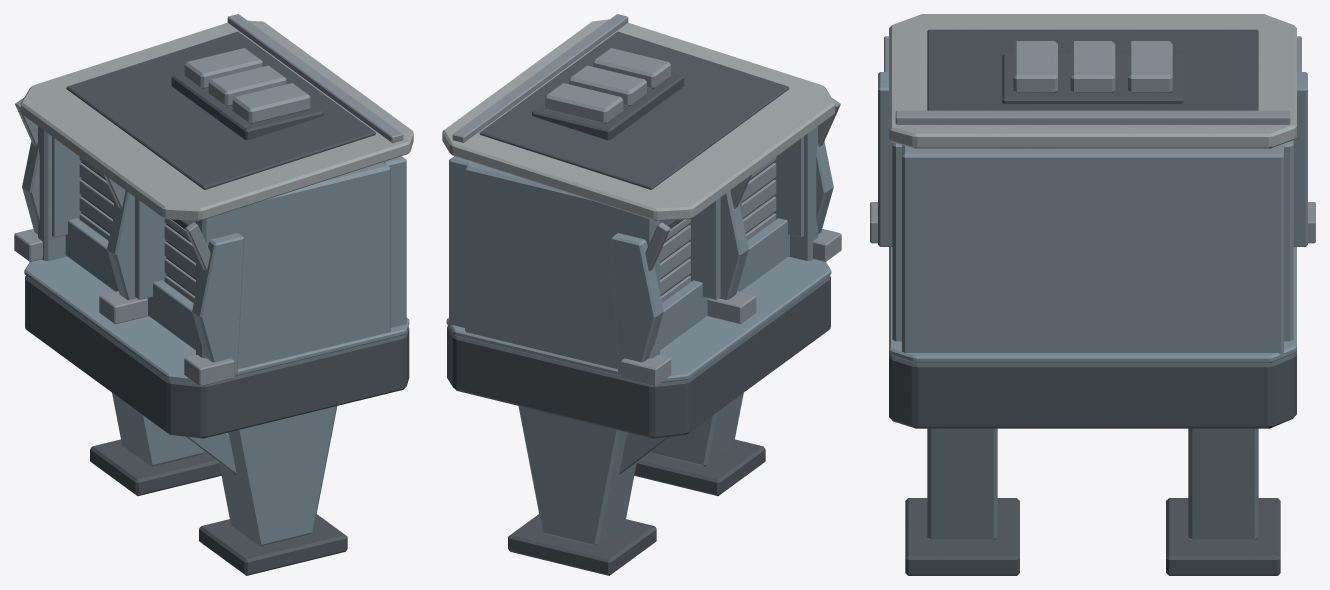
The model's file is NA_ServiceFacade_A_LOD1.fbx.
The picture shows the model from 3 angles, left to right: view 1: azimuth 30°, elevation 25°; view 2: azimuth 150°, elevation 25°; view 3: azimuth 270°, elevation 25°; orthographic projection. The views are drawn at different scales.
Parts seen in each view (by area): view 1: NA_ServiceFacade_A_LOD1; view 2: NA_ServiceFacade_A_LOD1; view 3: NA_ServiceFacade_A_LOD1.
Part boxes in pixels (<box>): NA_ServiceFacade_A_LOD1: <box>14,14,413,575</box>; NA_ServiceFacade_A_LOD1: <box>442,14,841,575</box>; NA_ServiceFacade_A_LOD1: <box>870,14,1315,575</box>.
Bounding box in the file's own units: 10.76 × 17.52 × 14.
